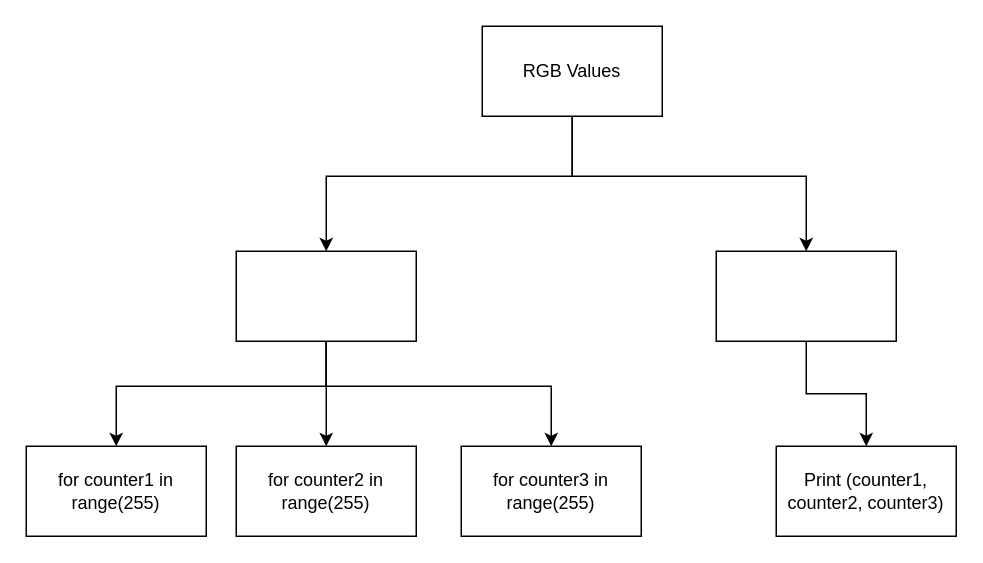
The diagram is 983 pixels wide and 563 high, and some of its shapes have lost their labels. Each missing label, with the box of its shape:
Output: (715, 250, 896, 341)
Process: (235, 250, 416, 341)
